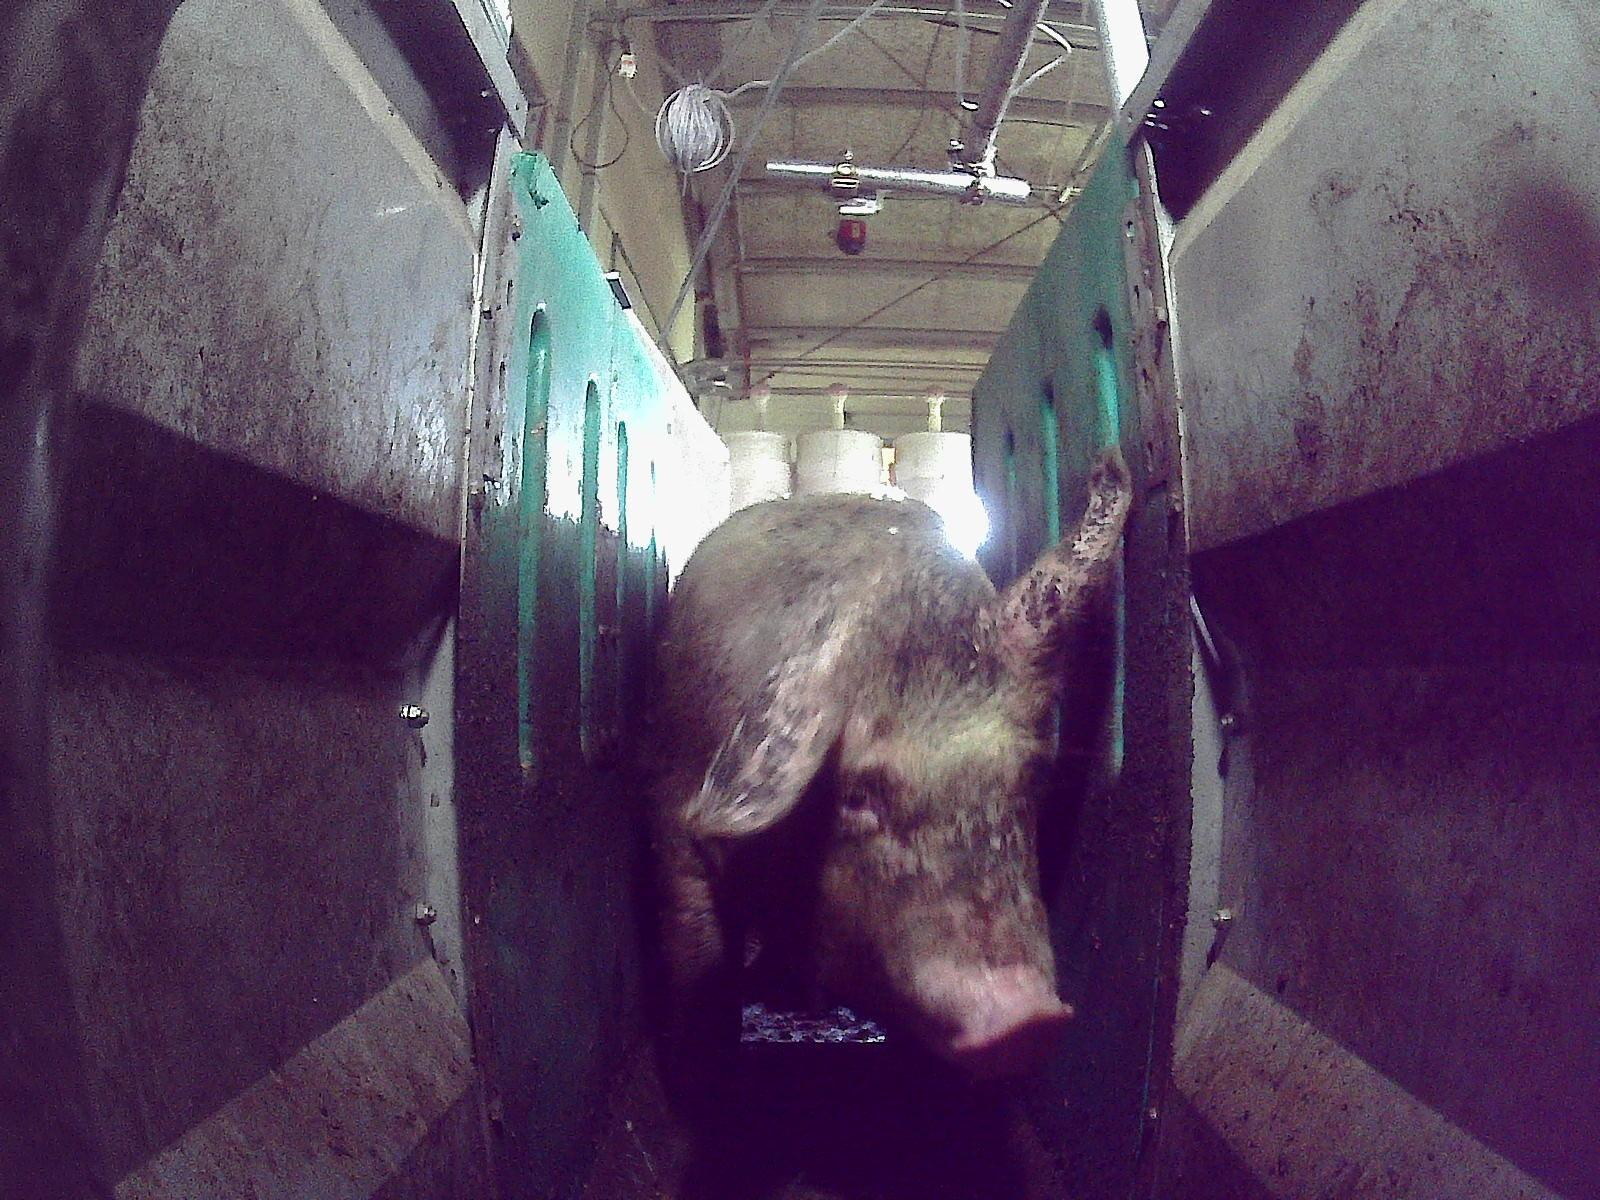Face: (752, 596, 1071, 1081)
